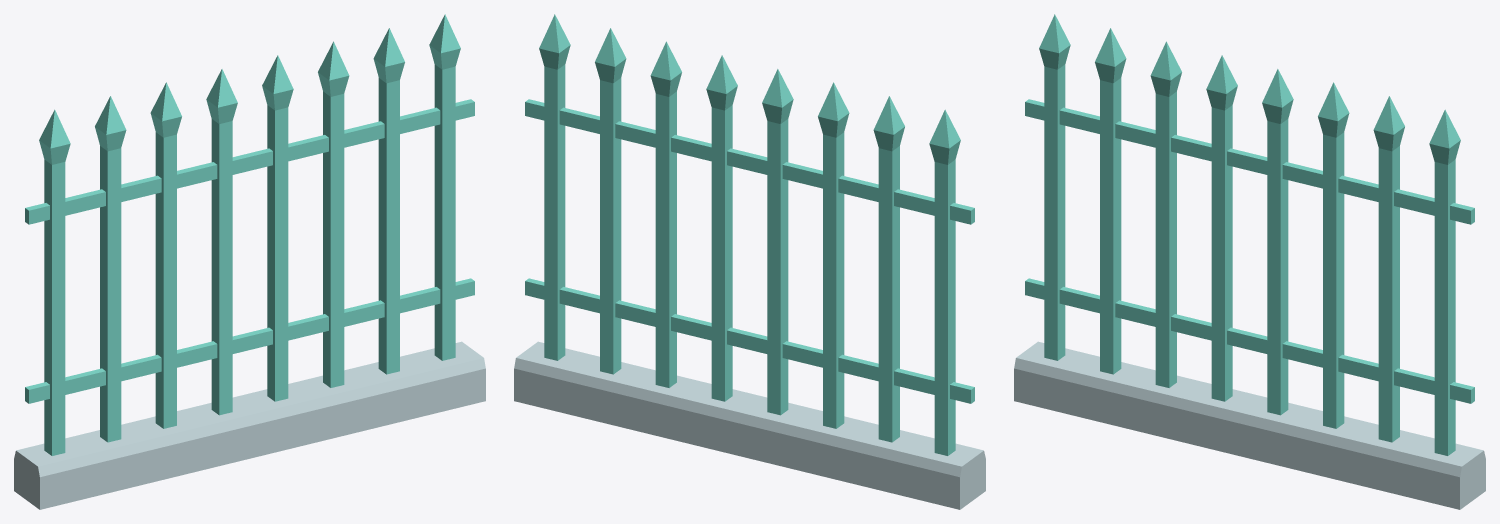
Rendered from ironFenceBorder.glb.
The picture shows the model from 3 angles, left to right: view 1: azimuth 30°, elevation 25°; view 2: azimuth 150°, elevation 25°; view 3: azimuth 330°, elevation 25°; orthographic projection.
Visible parts, largest first — view 1: ironFenceBorder; view 2: ironFenceBorder; view 3: ironFenceBorder.
Boxes of the visible parts, left/top/right/bottom form: ironFenceBorder: left=14, top=14, right=485, bottom=509; ironFenceBorder: left=514, top=14, right=985, bottom=509; ironFenceBorder: left=1014, top=14, right=1485, bottom=509.
Bounding box in the file's own units: 1 × 0.8239 × 0.1.
